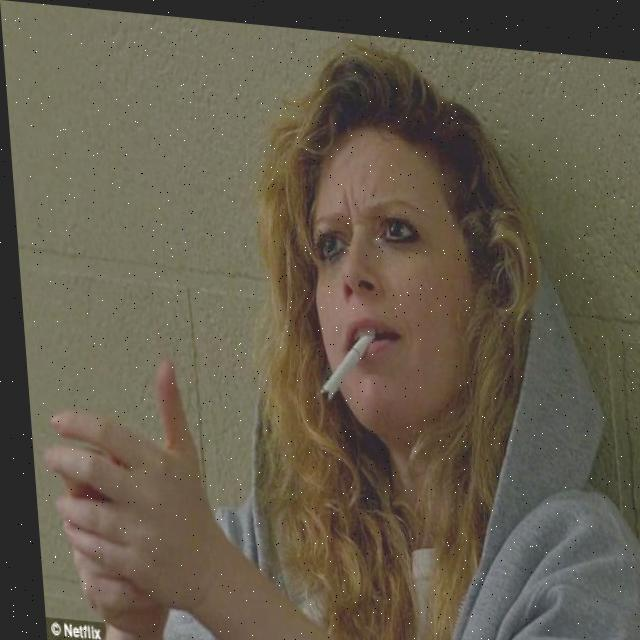cigarette: (310, 322, 375, 399)
